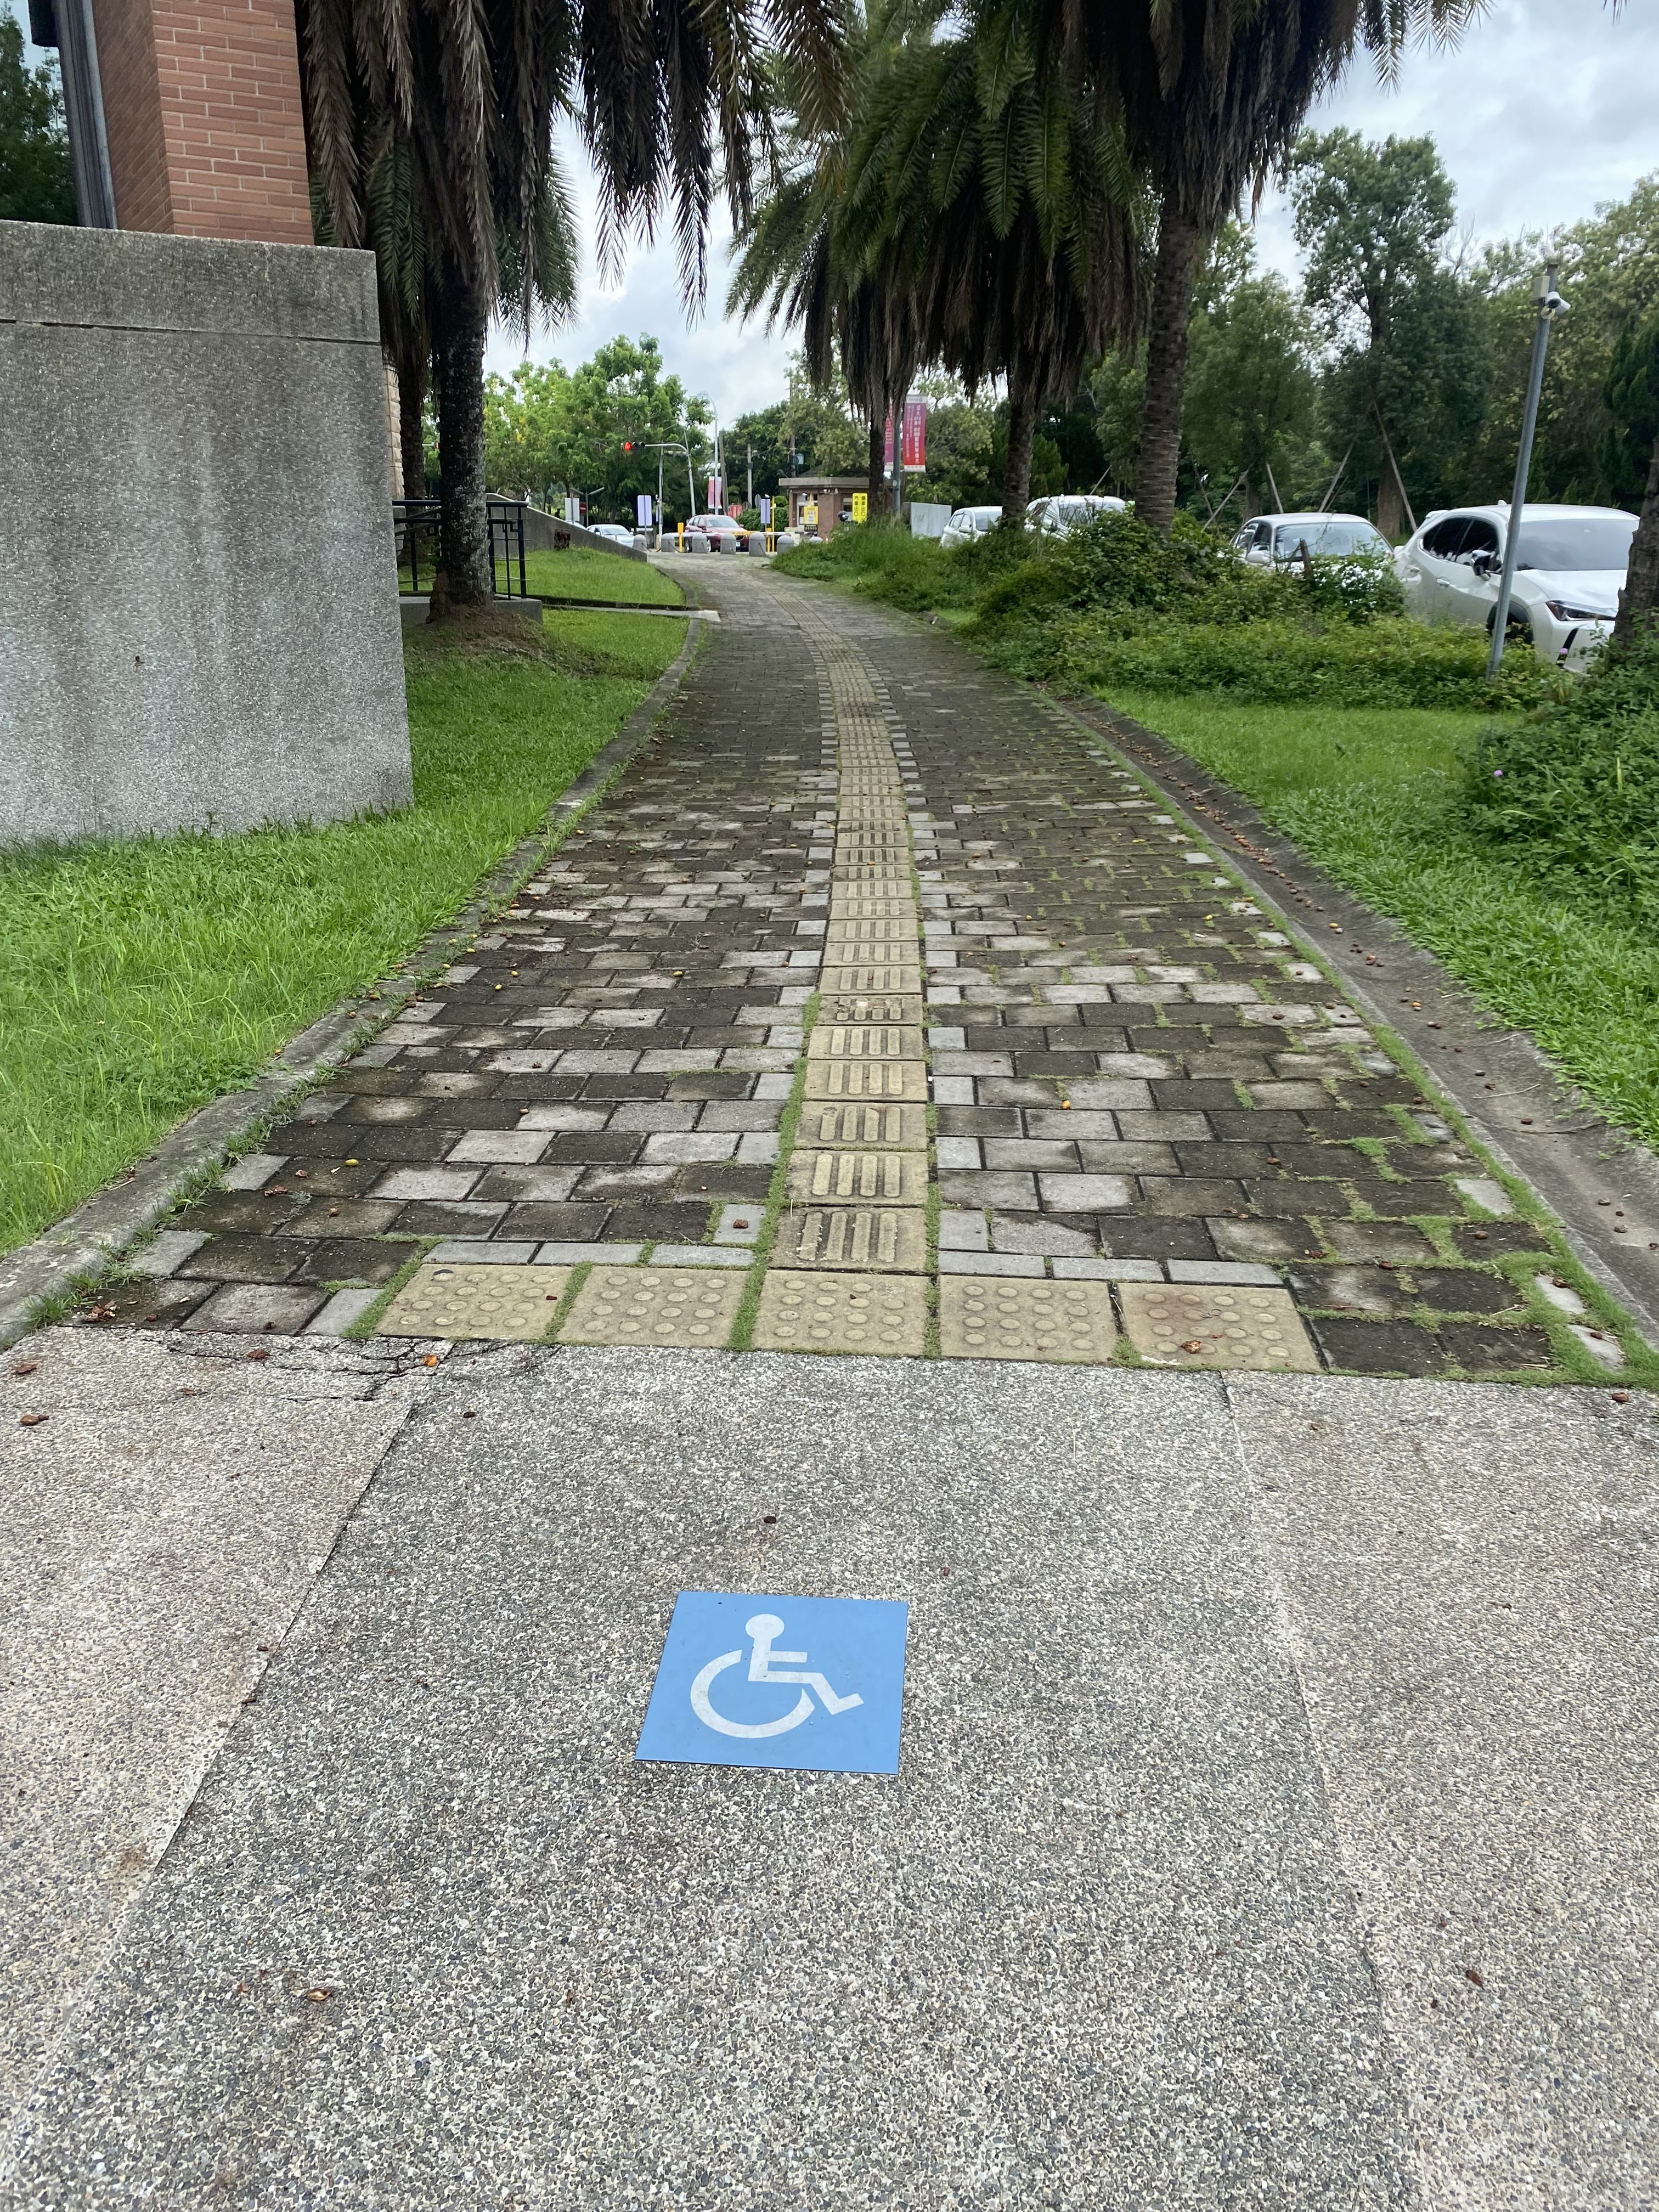0: (5, 805, 1659, 2212)
sidewalk: (648, 533, 1234, 1059)
